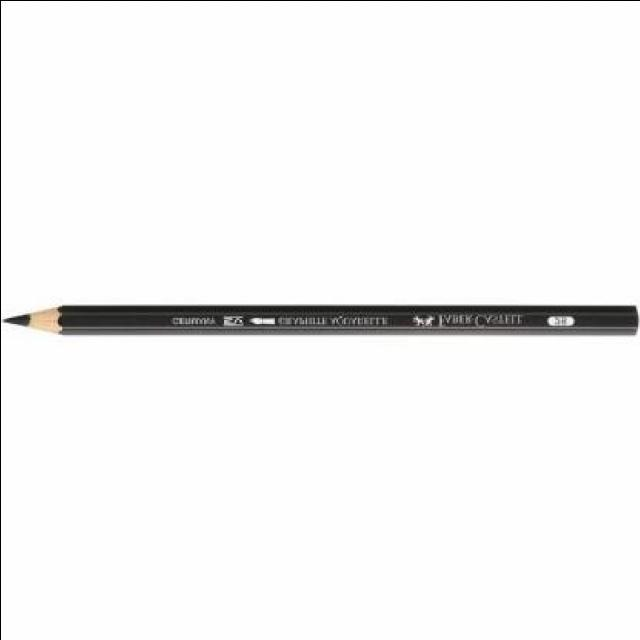Pencil: (0, 296, 82, 346)
